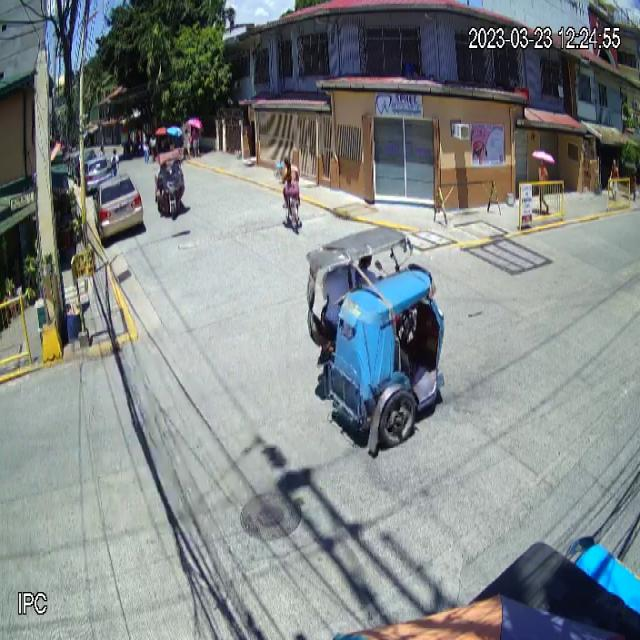Tricycle: (307, 224, 446, 456)
